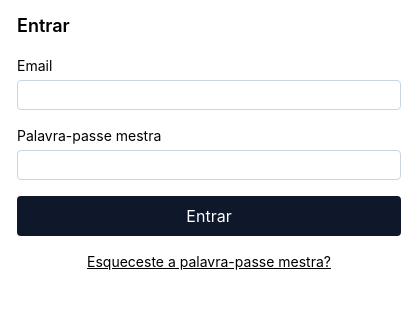
LoginPage › shows a translated message when the credentials are rejected
Type "paulo@example.com" into the field labelled "Email" at (209, 95), box [17, 80, 401, 110]
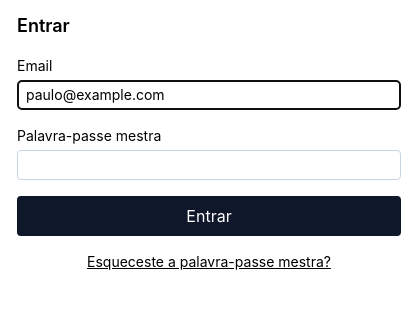
Type "wrong password" into the password field labelled "Palavra-passe mestra" at (209, 165), box [17, 150, 401, 180]
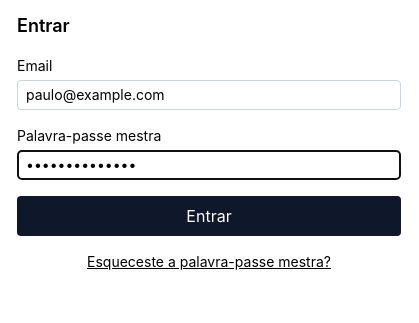
Click the button "Entrar" at (209, 216), box [17, 196, 401, 236]
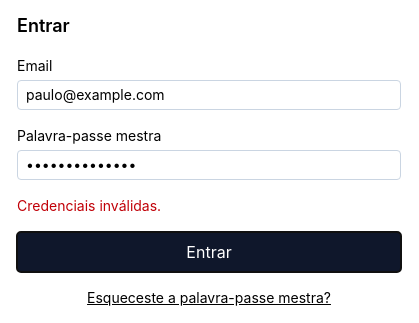
Expected: the text "Credenciais inválidas." is shown, [17, 197, 161, 214]
